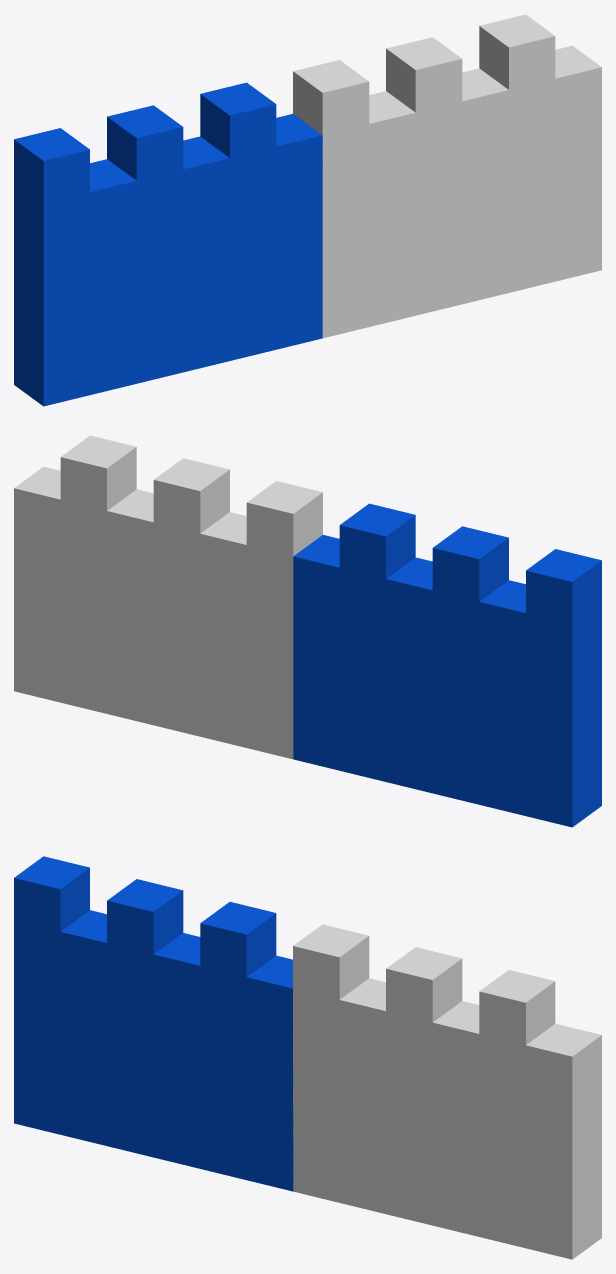
Rendered from Castle2.glb.
3 views of the same model, one above another, from view 1: azimuth 30°, elevation 25°; view 2: azimuth 150°, elevation 25°; view 3: azimuth 330°, elevation 25° (orthographic).
Parts seen in each view (by area): view 1: Cube.001, Cube; view 2: Cube.001, Cube; view 3: Cube, Cube.001.
Boxes of the visible parts, bbox=[...] form: Cube.001: bbox=[14, 82, 322, 406]; Cube: bbox=[293, 14, 601, 338]; Cube.001: bbox=[293, 503, 601, 827]; Cube: bbox=[14, 435, 322, 759]; Cube: bbox=[293, 924, 601, 1259]; Cube.001: bbox=[14, 856, 293, 1191].
Size of the model in its own units: 46.62 by 19.59 by 4.28.
